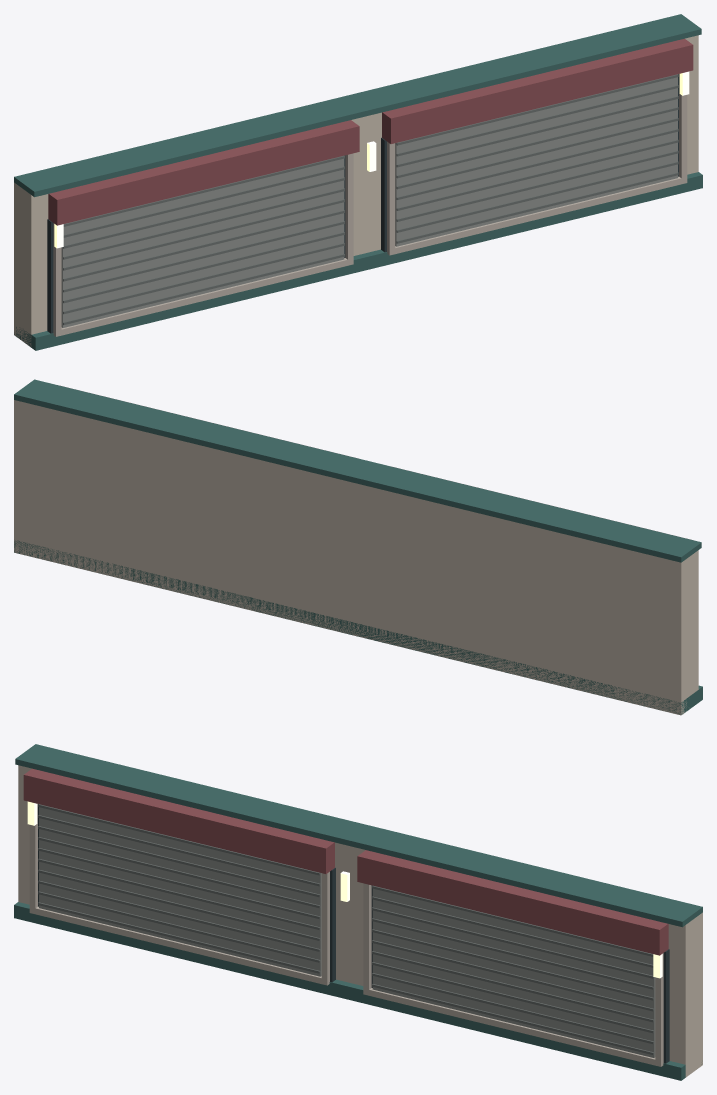
The model's file is TC_WallB.glb.
The picture shows the model from 3 angles, top to bottom: view 1: azimuth 30°, elevation 25°; view 2: azimuth 150°, elevation 25°; view 3: azimuth 330°, elevation 25°; orthographic projection.
Parts seen in each view (by area): view 1: TC_WallB; view 2: TC_WallB; view 3: TC_WallB.
Part boxes in pixels (box(x1,y1,x2,y2)): TC_WallB: box(14, 14, 702, 350); TC_WallB: box(14, 379, 702, 715); TC_WallB: box(14, 744, 702, 1080).
Size of the model in its own units: 64 by 14.5 by 4.57.
Materials: 2 (2 with a texture image).
